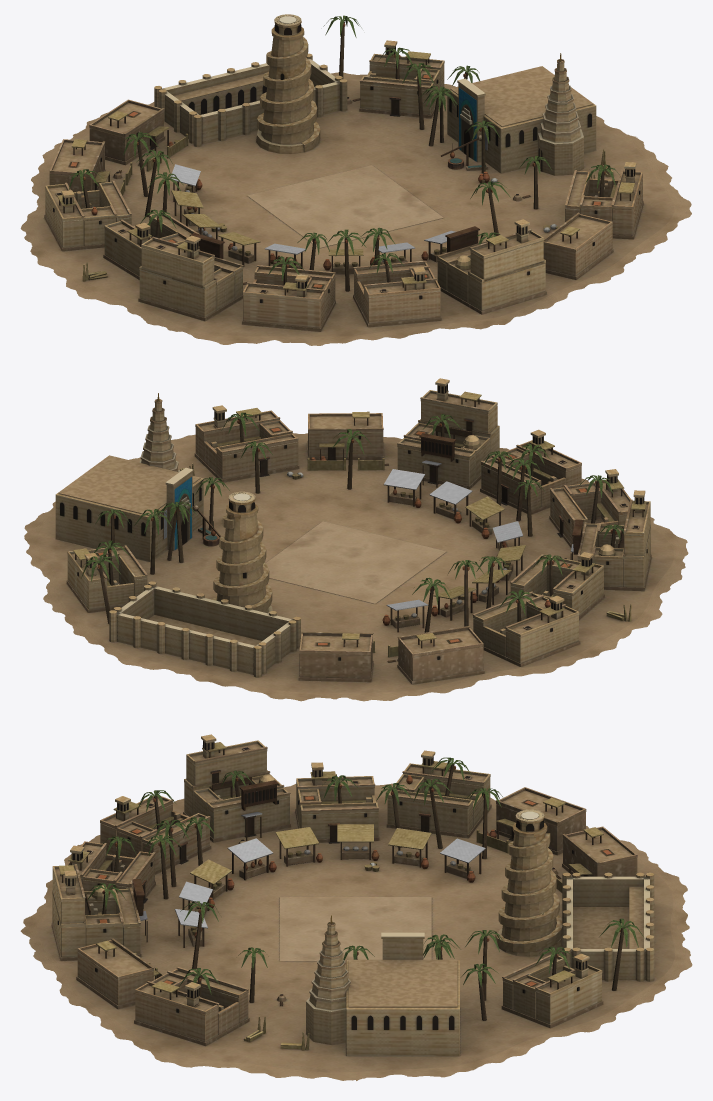
The model's file is kingdoms-town-medium-a-mesopotamia.glb.
3 renders of one model, top to bottom at view 1: azimuth 30°, elevation 25°; view 2: azimuth 150°, elevation 25°; view 3: azimuth 270°, elevation 25°, orthographic. The views are drawn at different scales.
Parts seen in each view (by area): view 1: LOD0; view 2: LOD0; view 3: LOD0.
Part boxes in pixels (bbox=[...]): LOD0: bbox=[20, 14, 691, 345]; LOD0: bbox=[24, 378, 688, 701]; LOD0: bbox=[20, 734, 692, 1080].
Size of what is drawn, in the model's own units: 5.92 by 1.18 by 5.6.
Materials: 3 (3 with a texture image).
